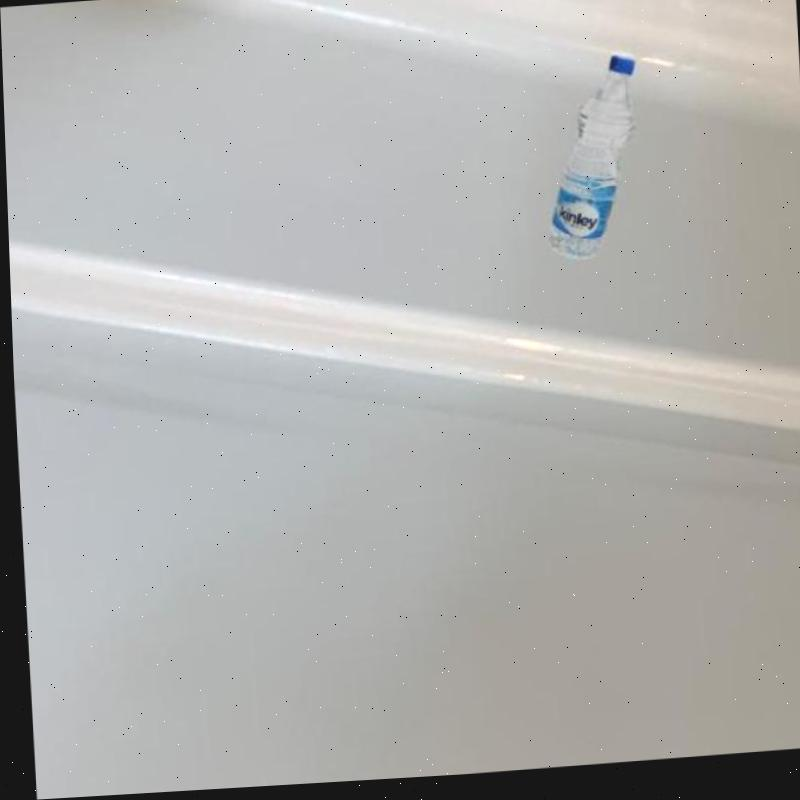botella: (535, 61, 645, 272)
